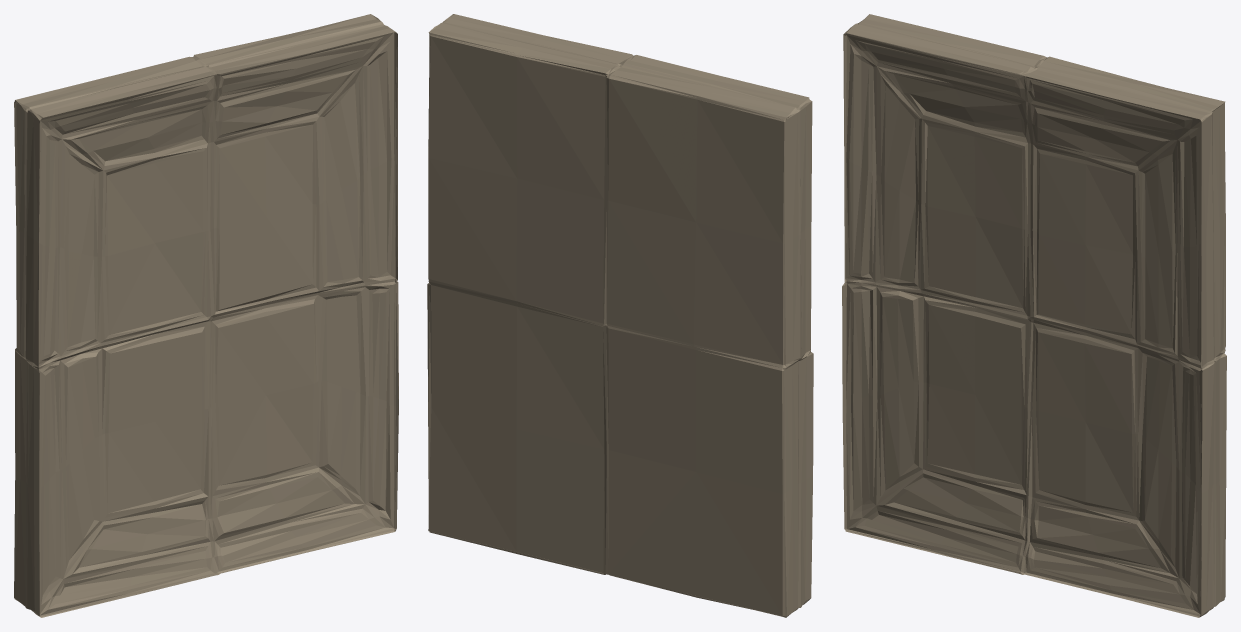
File: SM_StoneDoor.fbx
3 views of the same model, side by side, from view 1: azimuth 30°, elevation 25°; view 2: azimuth 150°, elevation 25°; view 3: azimuth 330°, elevation 25° (orthographic).
Visible parts, largest first — view 1: SM_StoneDoor; view 2: SM_StoneDoor; view 3: SM_StoneDoor.
Part boxes in pixels (x1=…): SM_StoneDoor: x1=14, y1=14, x2=398, y2=617; SM_StoneDoor: x1=427, y1=14, x2=813, y2=617; SM_StoneDoor: x1=842, y1=14, x2=1226, y2=617.
Bounding box in the file's own units: 3.03 × 4.03 × 0.4115.
